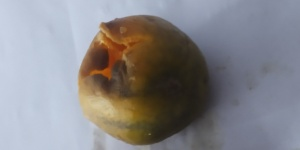BAD: (76, 15, 206, 146)
